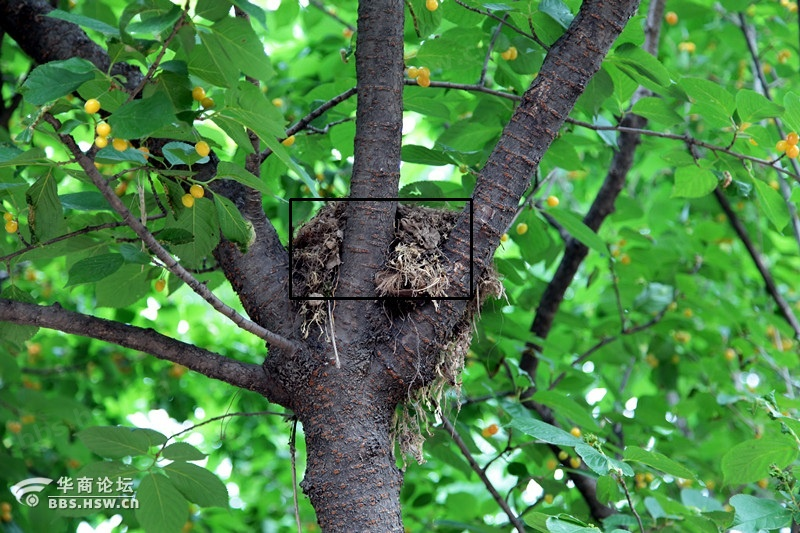bird-nest: (284, 193, 506, 468)
